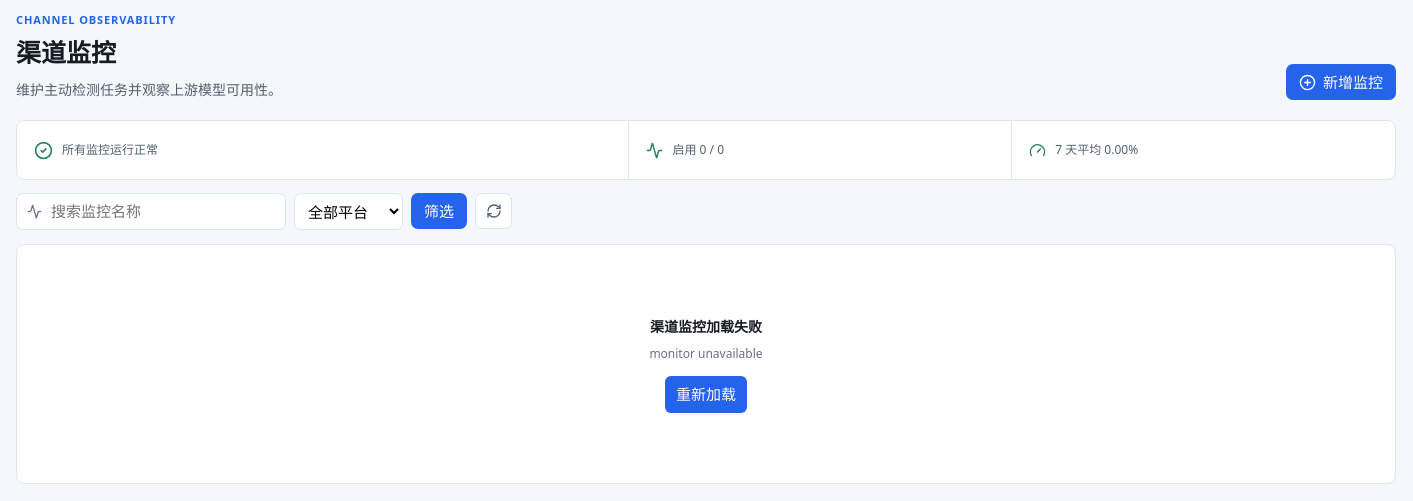
Test: AdminChannelMonitorsView › shows empty and retryable error states
expect the element with test id "monitor-error" shows "monitor unavailable": met, box 649,345 -> 763,362
What coordinates should you click on to do the following:
click the button with test id "retry-monitors"
I would click on:
 (706, 394)
Its box is 665,376 -> 747,413.
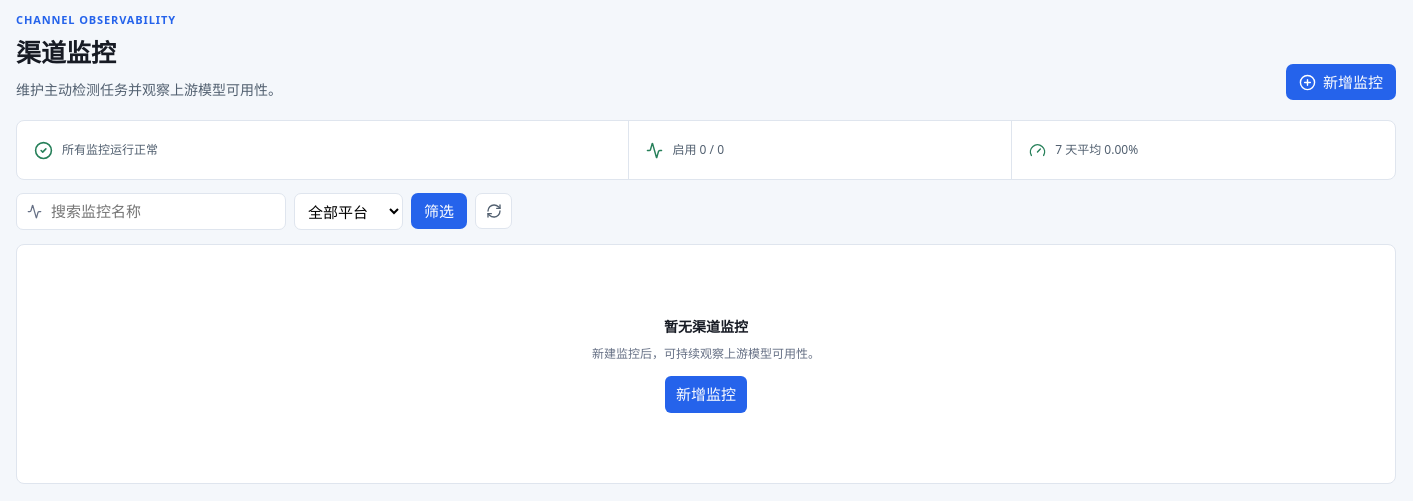
expect the element with test id "monitor-empty" shows "暂无渠道监控": met, box 664,317 -> 748,336
